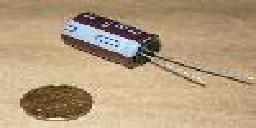Electrolytic-Capacitor: (61, 9, 256, 87)
